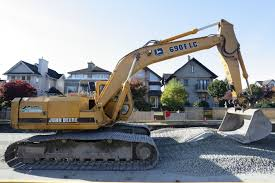excavator: (1, 18, 273, 169)
